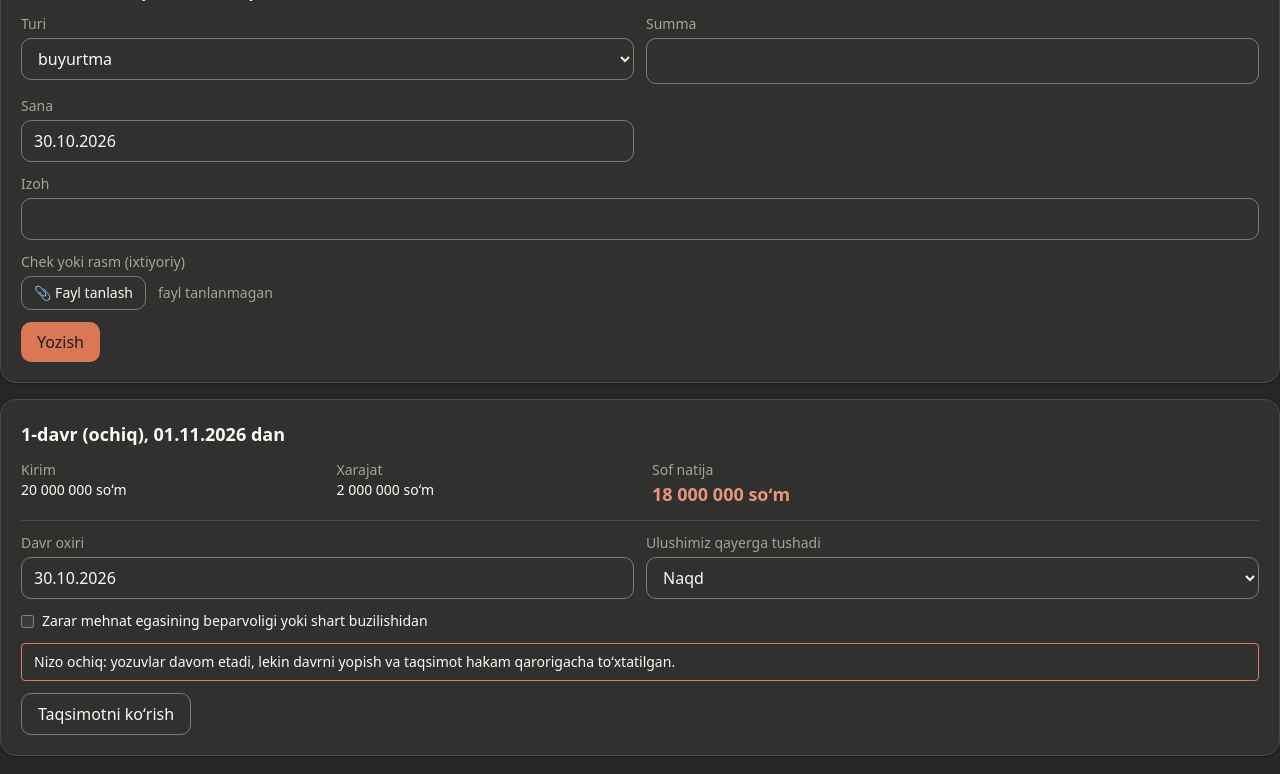
it: LedgerView: «katta foyda» va nizo › nizo ochiq — taqsimot bloklangan
The width and height of the screenshot is (1280, 774).
(page scrolled)
Expected: the text "Nizo ochiq: yozuvlar davom etadi" is shown, x1=34 y1=652 x2=675 y2=671
Step 1. Click the button "Taqsimotni koʻrish" → (106, 714), box x1=21 y1=693 x2=191 y2=735
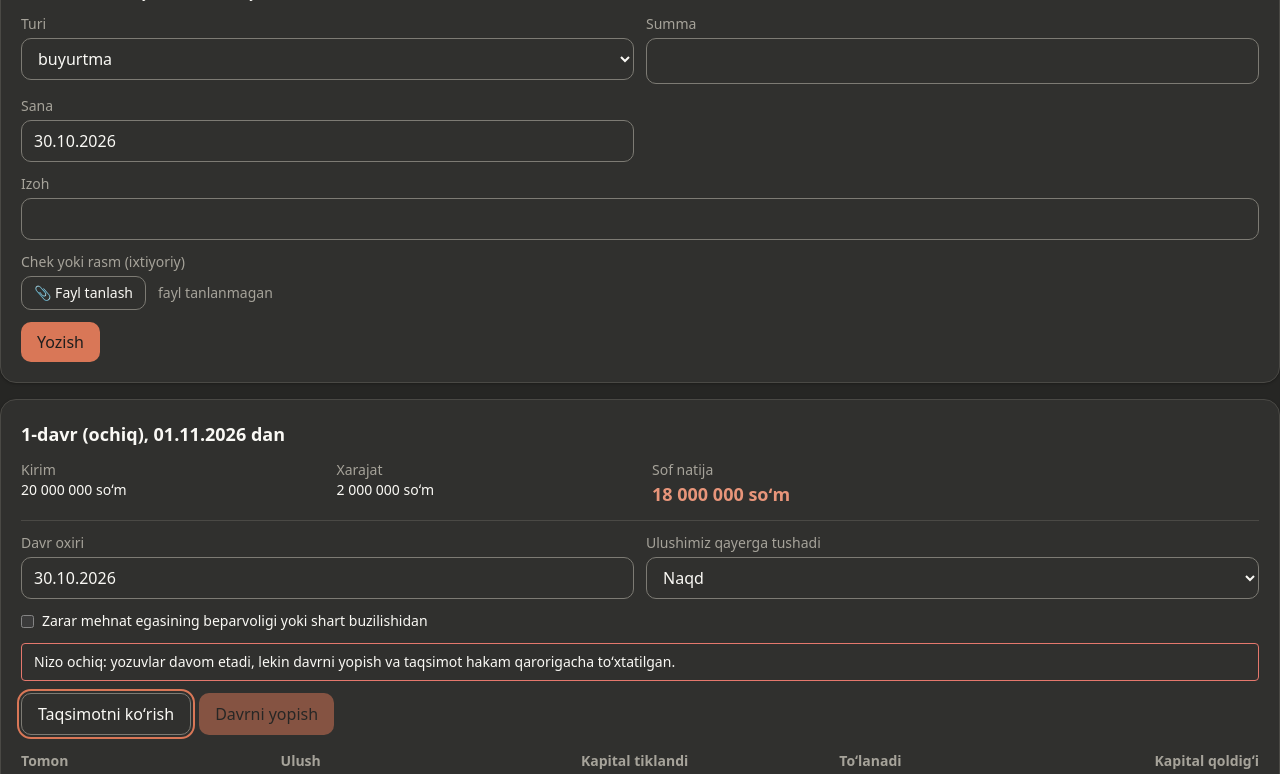
Expected: the button "Davrni yopish" is disabled, x1=199 y1=693 x2=334 y2=735
